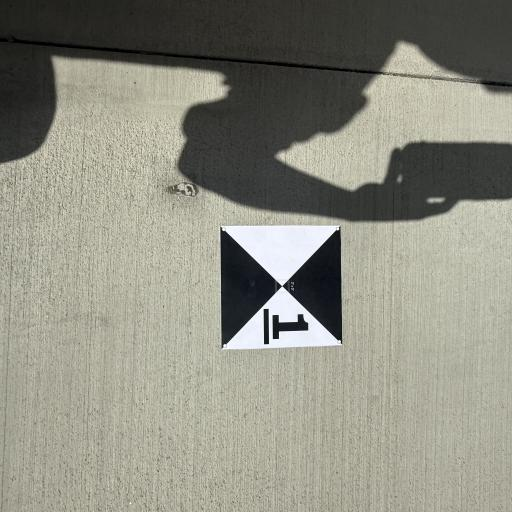target1: (218, 216, 346, 362)
